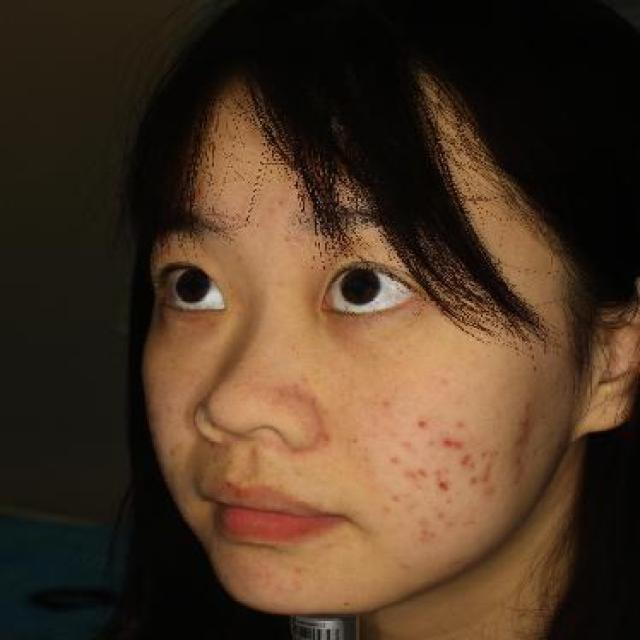Acne: (409, 512, 441, 546), (436, 429, 469, 454), (407, 463, 440, 486), (453, 449, 481, 469), (382, 449, 406, 469), (387, 488, 409, 508), (460, 472, 486, 488), (397, 434, 419, 452), (412, 415, 434, 431), (436, 475, 454, 494), (433, 506, 452, 522)
